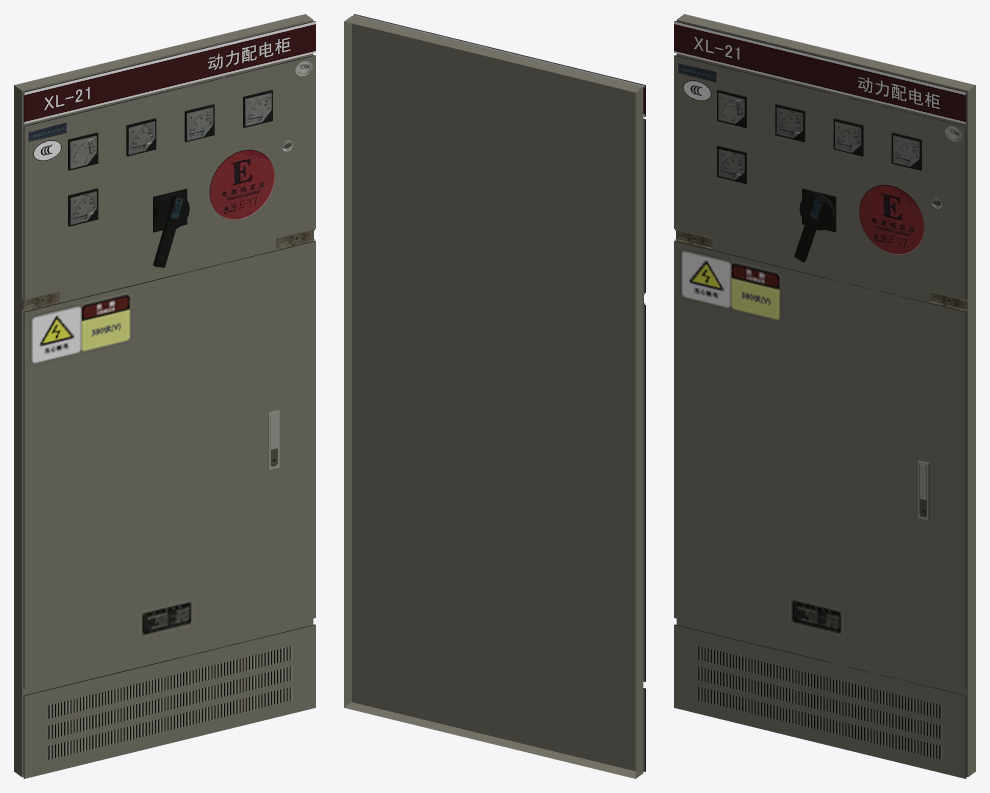
The model's file is YF_Model_dongli.FBX.
The picture shows the model from 3 angles, left to right: view 1: azimuth 30°, elevation 25°; view 2: azimuth 150°, elevation 25°; view 3: azimuth 330°, elevation 25°; orthographic projection.
Parts seen in each view (by area): view 1: Box004; view 2: Box004; view 3: Box004.
Part boxes in pixels (bbox=[...]): Box004: bbox=[14, 14, 315, 778]; Box004: bbox=[344, 14, 645, 778]; Box004: bbox=[674, 14, 975, 778].
Size of the model in its own units: 80 by 180 by 7.49.
1 material, 1 textured.
